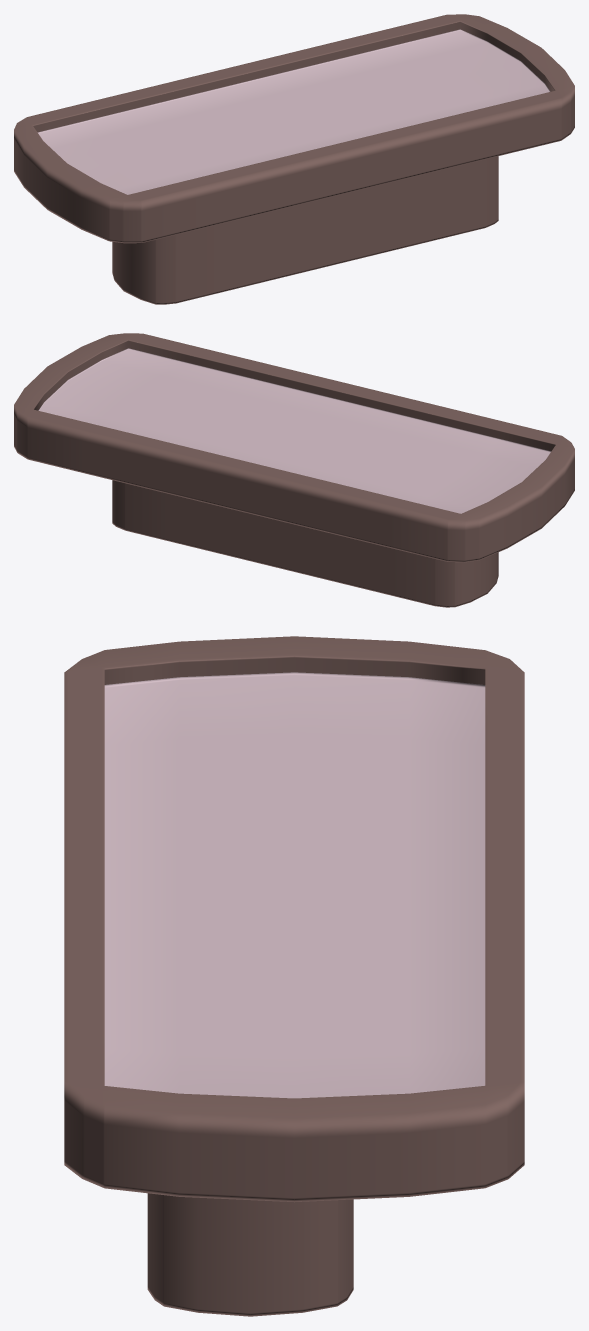
File: Pupitre_aula.fbx
3 views of the same model, one above another, from view 1: azimuth 30°, elevation 25°; view 2: azimuth 150°, elevation 25°; view 3: azimuth 270°, elevation 25° (orthographic). The views are drawn at different scales.
Parts seen in each view (by area): view 1: Cube.008; view 2: Cube.008; view 3: Cube.008.
Part boxes in pixels (x1,y1,x2,y2): Cube.008: [14, 14, 574, 304]; Cube.008: [14, 333, 574, 607]; Cube.008: [64, 636, 524, 1316].
Bounding box in the file's own units: 367 × 92.74 × 148.
